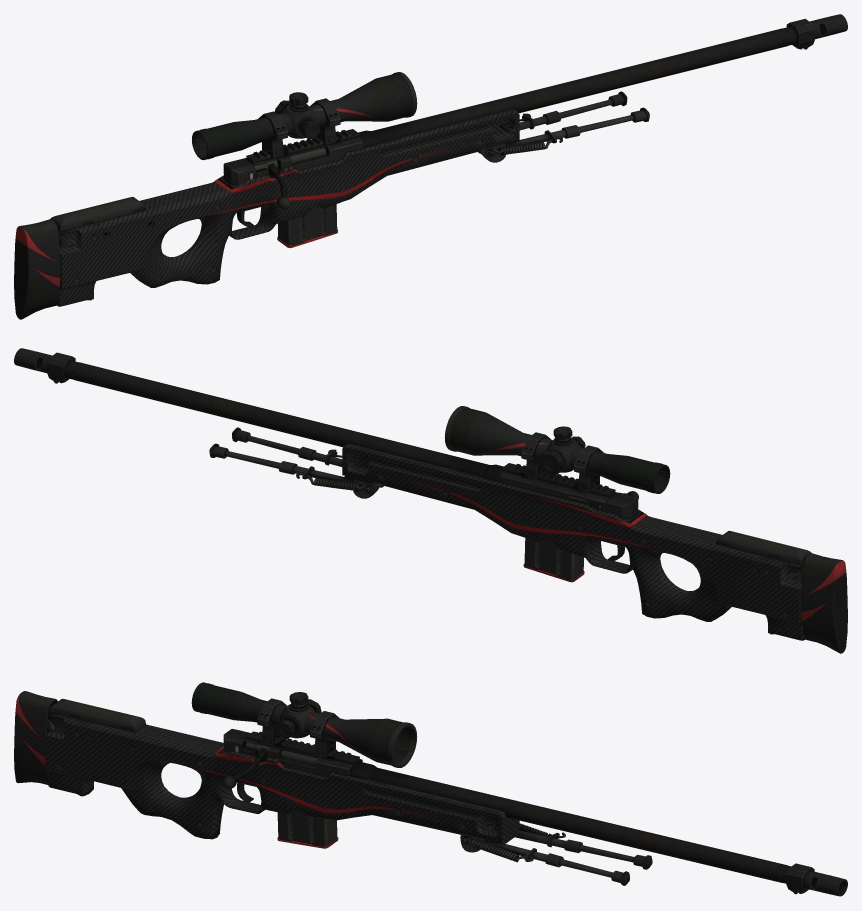
File: Sniperrifle_redline.glb
The picture shows the model from 3 angles, top to bottom: view 1: azimuth 30°, elevation 25°; view 2: azimuth 150°, elevation 25°; view 3: azimuth 330°, elevation 25°; orthographic projection.
Parts seen in each view (by area): view 1: Gun_Root, AAPScop, AAPClip; view 2: Gun_Root, AAPScop, AAPClip; view 3: Gun_Root, AAPScop, AAPClip.
Boxes of the visible parts, x1,y1,x2,y2 form: Gun_Root: [14, 14, 847, 319]; AAPScop: [192, 72, 417, 159]; AAPClip: [277, 204, 337, 248]; Gun_Root: [14, 348, 847, 653]; AAPScop: [444, 406, 670, 493]; AAPClip: [523, 538, 584, 582]; Gun_Root: [14, 691, 847, 896]; AAPScop: [191, 682, 417, 767]; AAPClip: [277, 810, 338, 848].
Bounding box in the file's own units: 1.18 × 0.2208 × 0.127.
3 materials, 3 textured.
